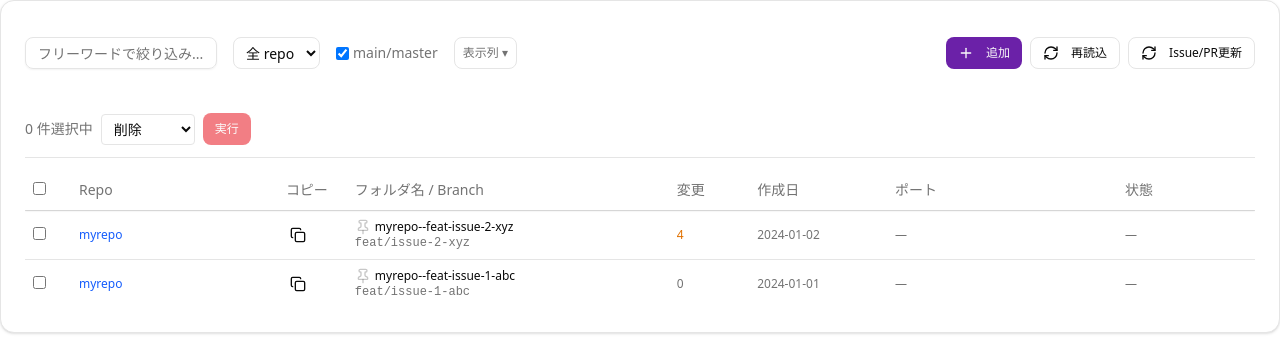
TreesPage - dirty worktree も選択可能 › dirty 行のチェックボックスも有効で、全選択で両方選ばれる
Expected: the checkbox named "myrepo/myrepo--feat-issue-2-xyz を選択" is enabled, [33, 226, 46, 240]
Click the checkbox named "全選択". click: (40, 188)
box: [33, 182, 46, 195]
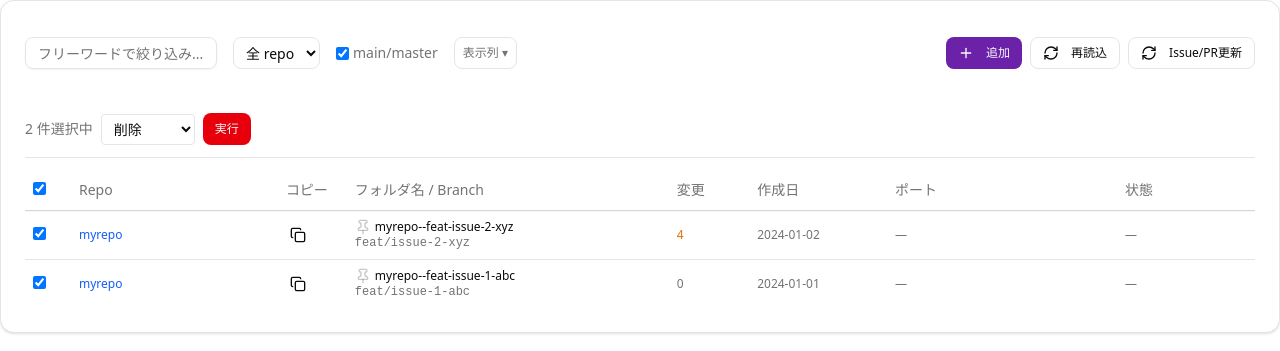
Now the text "2 件選択中" is shown, box [25, 119, 93, 139]
Now the checkbox named "myrepo/myrepo--feat-issue-1-abc を選択" is checked, box [33, 276, 46, 288]
Now the checkbox named "myrepo/myrepo--feat-issue-2-xyz を選択" is checked, box [33, 226, 46, 240]
